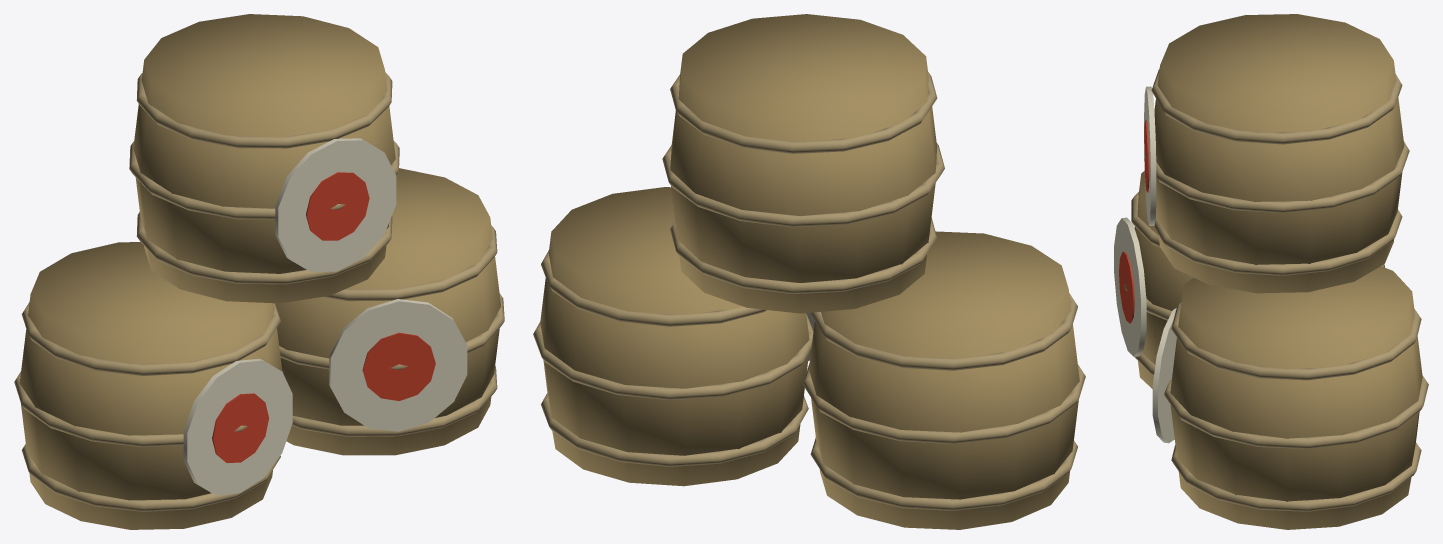
Rendered from sake-barrels.glb.
3 views of the same model, side by side, from view 1: azimuth 30°, elevation 25°; view 2: azimuth 150°, elevation 25°; view 3: azimuth 270°, elevation 25° (orthographic). The views are drawn at different scales.
Visible parts, largest first — view 1: village-thatch, paint-ivory, burlap, village-vermilion; view 2: village-thatch, burlap; view 3: village-thatch, burlap, paint-ivory, village-vermilion.
Part boxes in pixels (x1,y1,x2,y2): village-thatch: [19, 14, 501, 529]; paint-ivory: [183, 138, 467, 495]; burlap: [14, 72, 504, 511]; village-vermilion: [212, 172, 435, 463]; village-thatch: [540, 14, 1079, 529]; burlap: [533, 72, 1085, 510]; village-thatch: [1134, 14, 1422, 529]; burlap: [1124, 69, 1428, 511]; paint-ivory: [1114, 86, 1176, 443]; village-vermilion: [1119, 120, 1149, 323].
Size of the model in its own units: 1.9 by 1.44 by 1.13.
